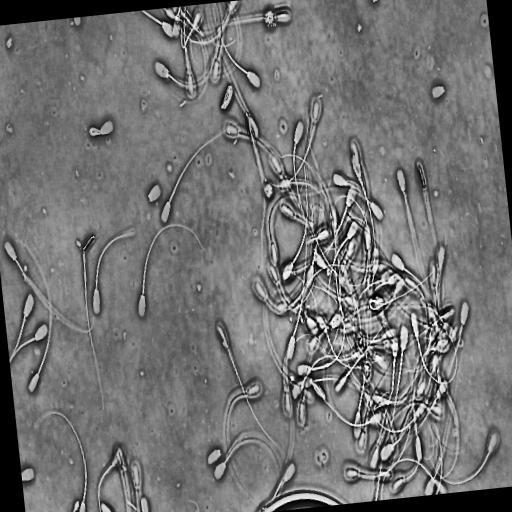coiled-tail: (222, 86, 231, 106), (89, 126, 101, 138)
dirt-particles: (264, 7, 276, 28)
distal-droplet: (325, 363, 329, 368)
folded-tail: (417, 336, 457, 384)
loose-head: (143, 181, 163, 208), (203, 444, 223, 470), (429, 82, 449, 106)
normal: (159, 115, 249, 226), (3, 240, 98, 340), (215, 320, 282, 456), (133, 220, 210, 323), (10, 236, 53, 399), (29, 405, 89, 512), (260, 99, 320, 189), (395, 166, 432, 308), (224, 381, 266, 506), (79, 230, 106, 417), (425, 427, 502, 488), (211, 3, 263, 91), (281, 132, 311, 284), (213, 436, 282, 499), (335, 316, 391, 392), (155, 34, 225, 93), (91, 228, 136, 319), (351, 153, 377, 303), (326, 216, 362, 323), (411, 311, 458, 386), (297, 310, 347, 378), (382, 324, 408, 451), (285, 225, 308, 360), (391, 252, 435, 322), (439, 301, 469, 402), (353, 300, 369, 439), (293, 120, 312, 235), (81, 115, 116, 146), (220, 81, 235, 114)
